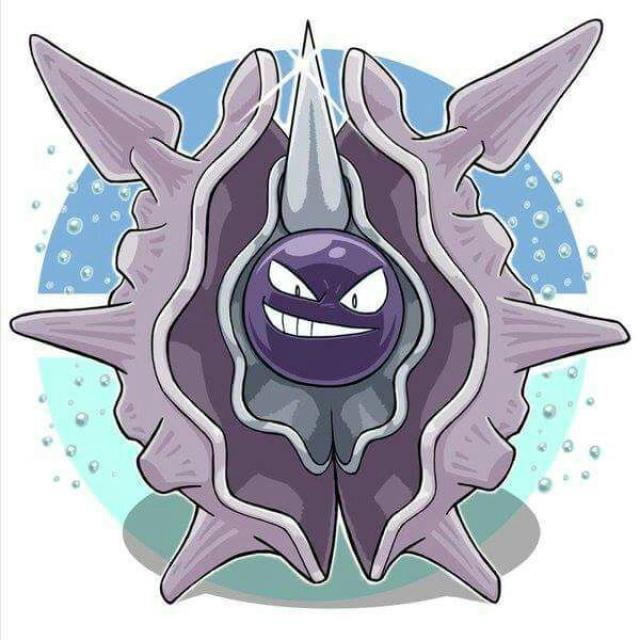Cloyster: (103, 56, 537, 594)
